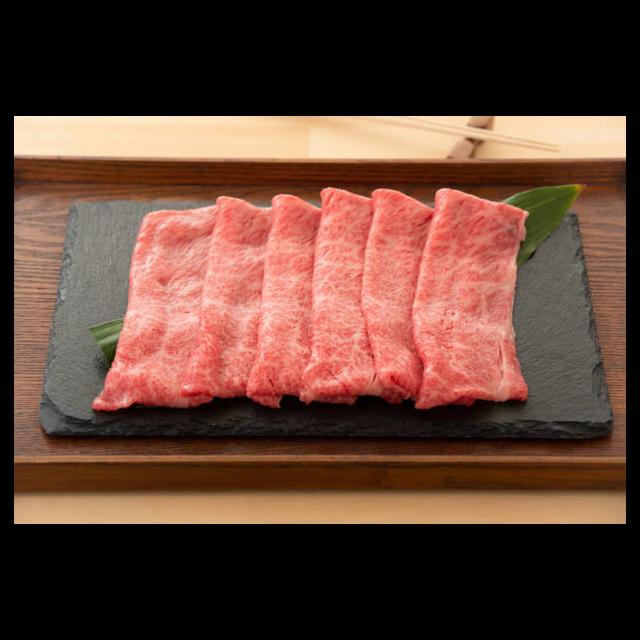beef: (96, 198, 214, 407), (421, 186, 525, 412), (249, 193, 359, 405), (369, 186, 471, 409), (184, 197, 283, 409), (308, 188, 402, 401)
